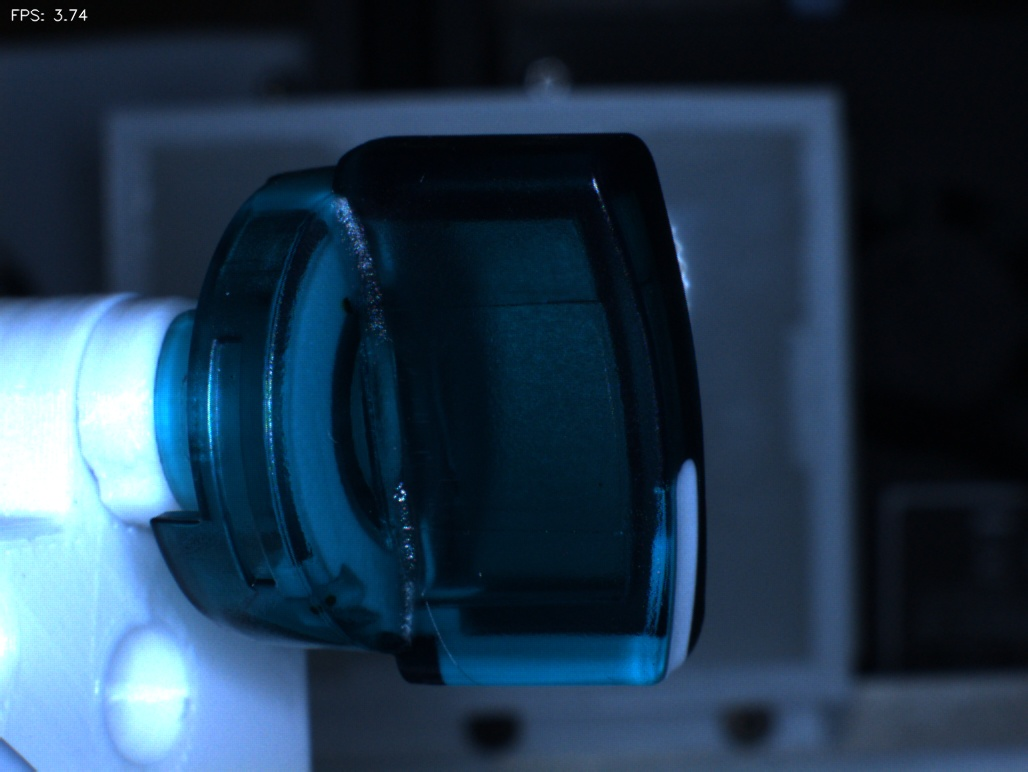PointNoir: (317, 269, 379, 342)
